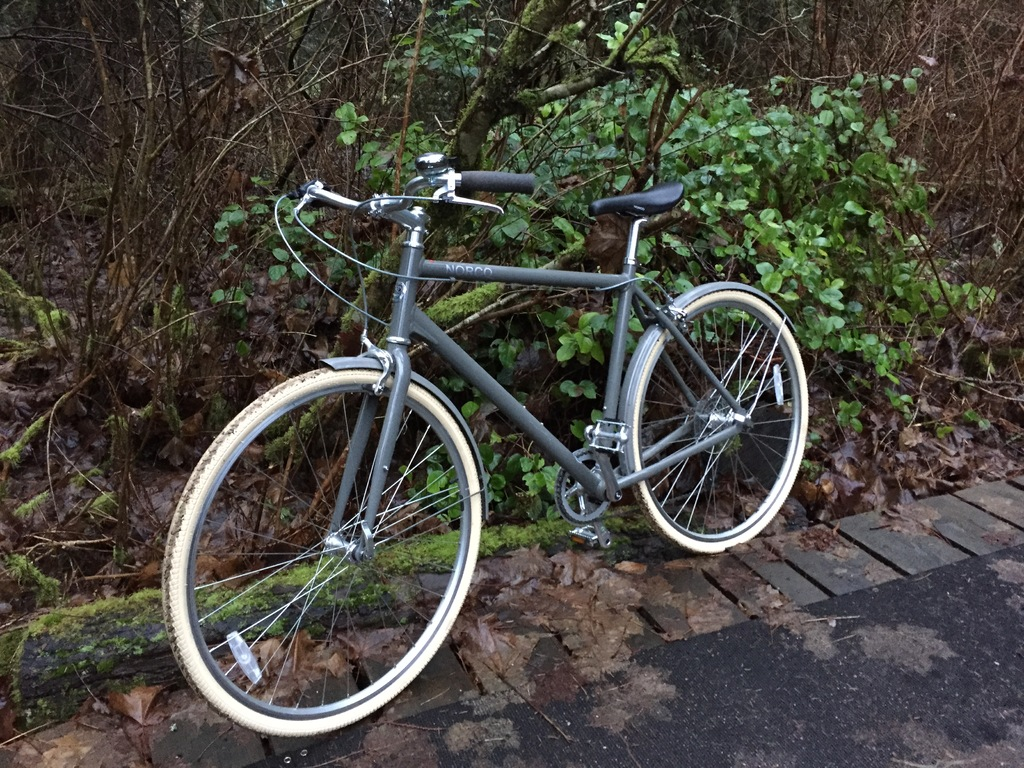Bike_toward: (147, 189, 813, 701)
